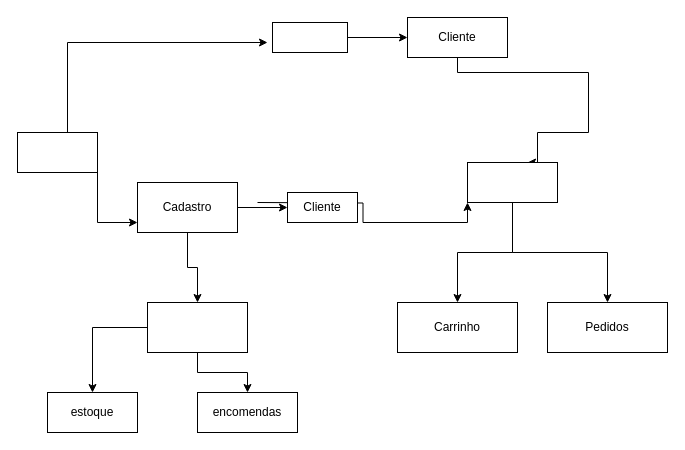
Some shapes in this 685 by 450 pixel diagram are drawn without their labels. Here are the shapes that lost their labels. From the top down, the centre of each, then its label:
At point 310,37: "Login".
At point 57,152: "HOME".
At point 512,182: "Navegação".
At point 197,327: "adm".
